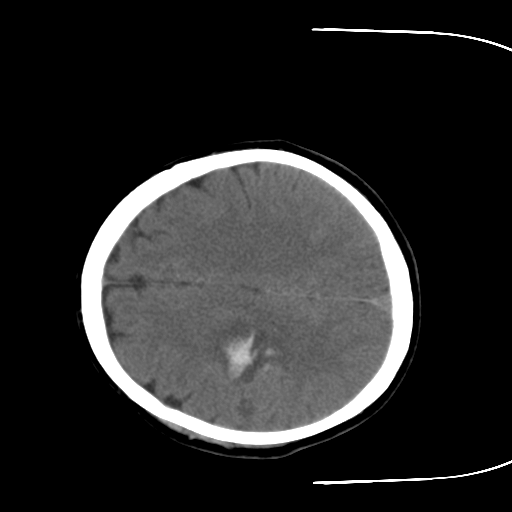a: (199, 306, 284, 393)
